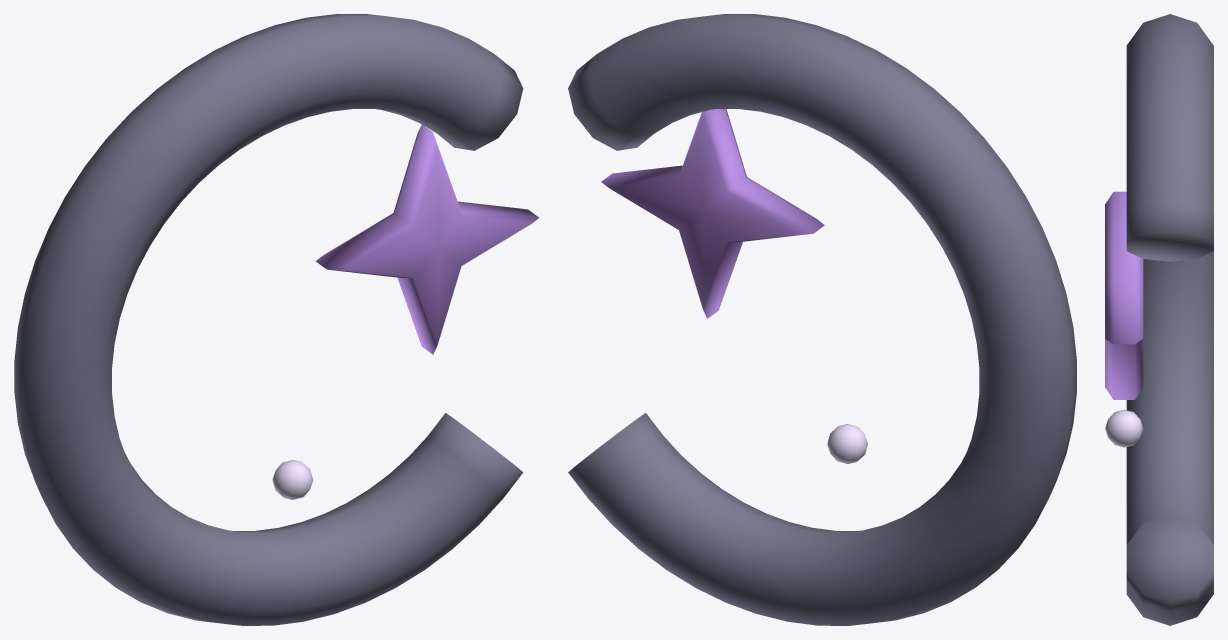
Rendered from noir_crescent_brooch.glb.
3 renders of one model, left to right at view 1: azimuth 30°, elevation 25°; view 2: azimuth 150°, elevation 25°; view 3: azimuth 270°, elevation 25°, orthographic. The views are drawn at different scales.
Visible parts, largest first — view 1: noir_crescent_brooch_metal, noir_crescent_brooch_gem, noir_crescent_brooch_light; view 2: noir_crescent_brooch_metal, noir_crescent_brooch_gem, noir_crescent_brooch_light; view 3: noir_crescent_brooch_metal, noir_crescent_brooch_gem, noir_crescent_brooch_light.
Boxes of the visible parts, x1=… form: noir_crescent_brooch_metal: x1=14, y1=14, x2=523, y2=625; noir_crescent_brooch_gem: x1=315, y1=124, x2=538, y2=354; noir_crescent_brooch_light: x1=272, y1=460, x2=313, y2=499; noir_crescent_brooch_metal: x1=568, y1=14, x2=1076, y2=625; noir_crescent_brooch_gem: x1=601, y1=109, x2=824, y2=318; noir_crescent_brooch_light: x1=827, y1=424, x2=867, y2=463; noir_crescent_brooch_metal: x1=1126, y1=14, x2=1213, y2=625; noir_crescent_brooch_gem: x1=1105, y1=191, x2=1143, y2=399; noir_crescent_brooch_light: x1=1105, y1=409, x2=1143, y2=447.
Size of the model in its own units: 0.0697 by 0.0799 by 0.0142.
